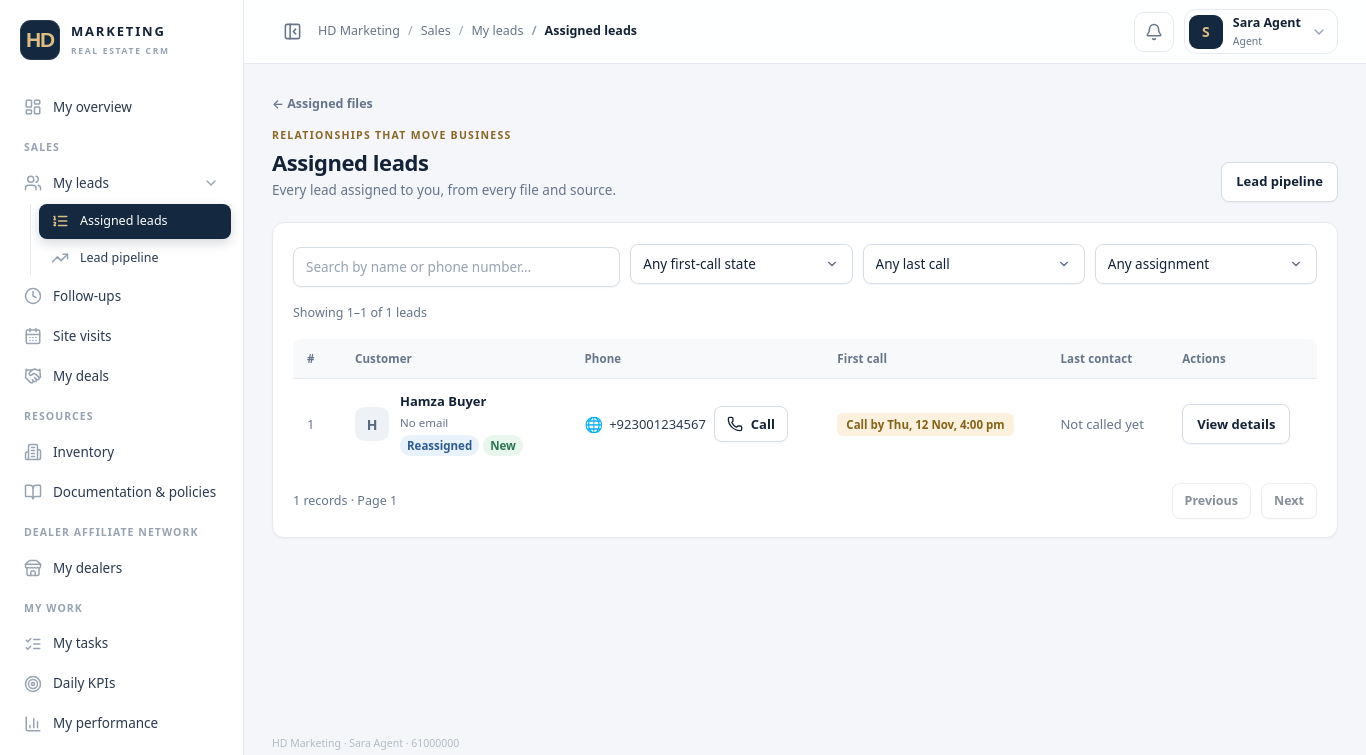
it: a reassigned lead for its new agent › lists it as Reassigned and New, and filters by it
Check: the text "Hamza Buyer" is shown, box [400,392,486,410]
Check: the text "Not called yet" is shown, box [1060,415,1144,433]
Select "Reassigned to me" in the dropdown named "Filter by assignment" at x=1206, y=264, box [1095,244,1317,284]
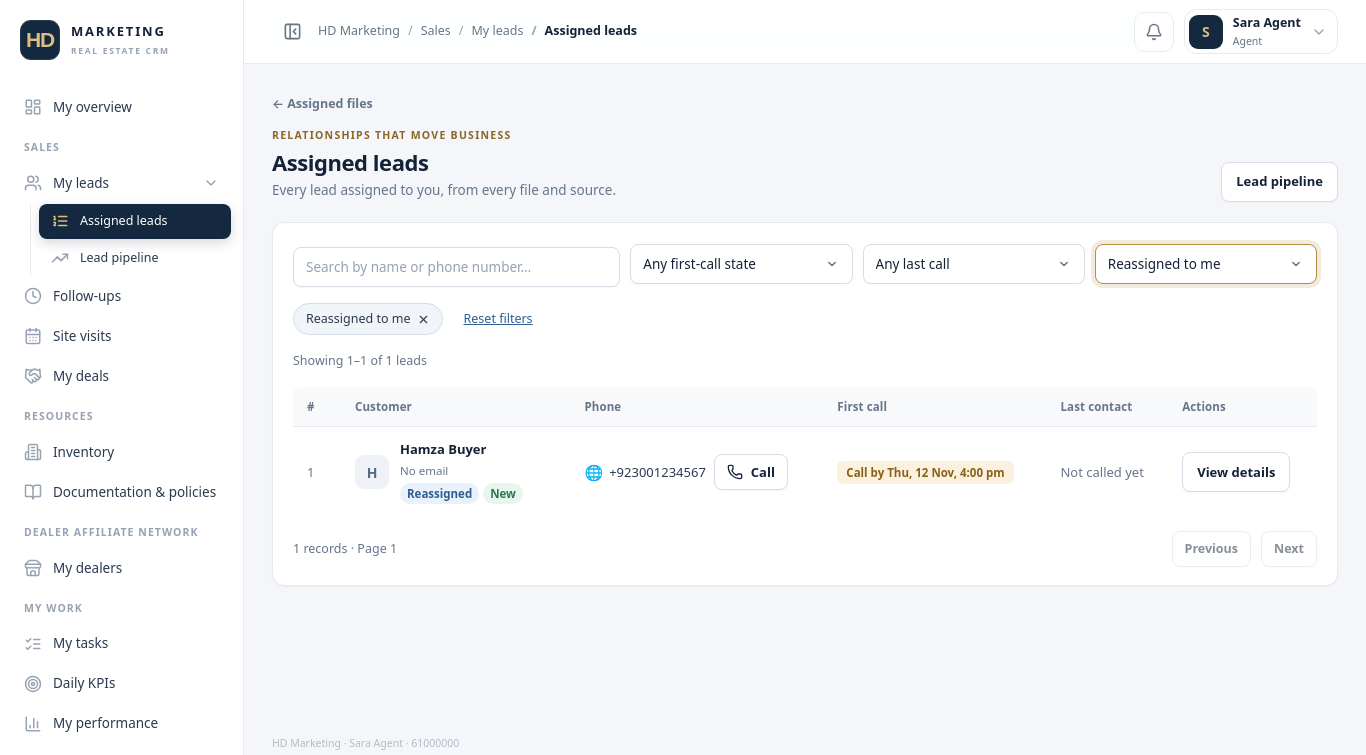
Check: the text "Reassigned to me" is shown 2 times
